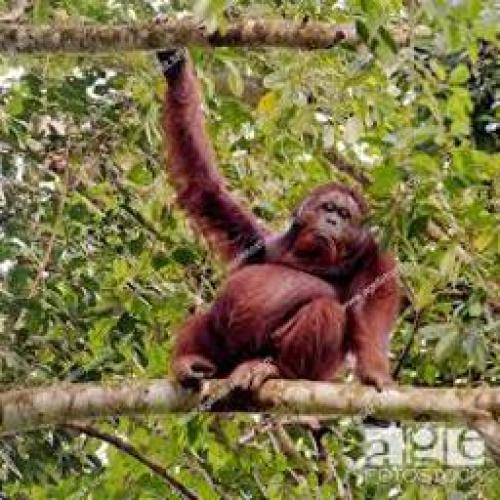orangutan-endangered: (155, 48, 406, 401)
